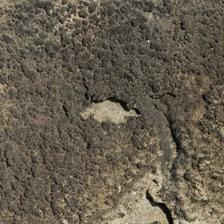Crack: (77, 91, 147, 129), (145, 180, 177, 224)
